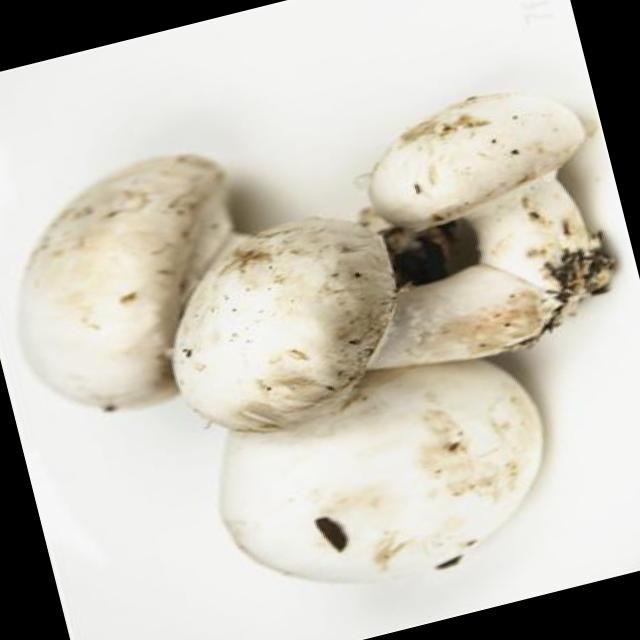Agaricus bisporus: (138, 167, 566, 450), (188, 324, 562, 610), (0, 132, 284, 432), (361, 72, 609, 314)
